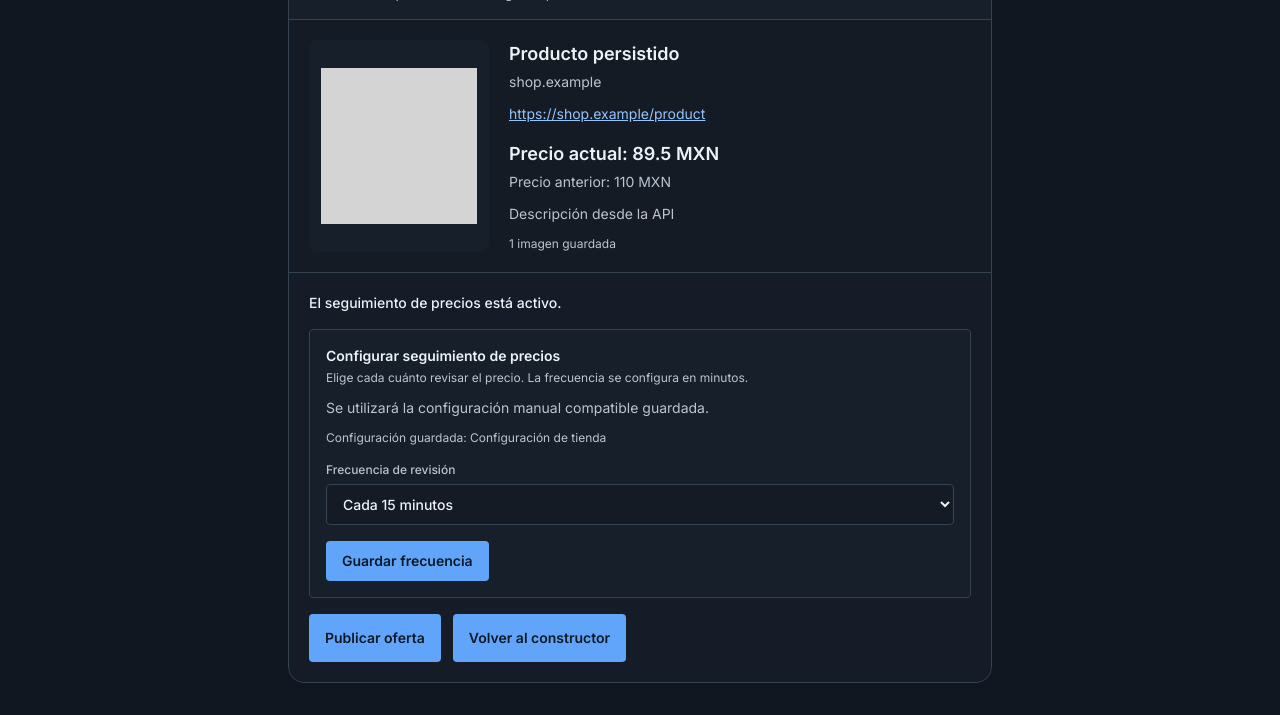
ProductSavedPage › shows publication failures without marking the offer as published
This screenshot has width=1280, height=715.
(page scrolled)
Click the button "Publicar oferta" at (375, 638), box x1=309 y1=614 x2=441 y2=662
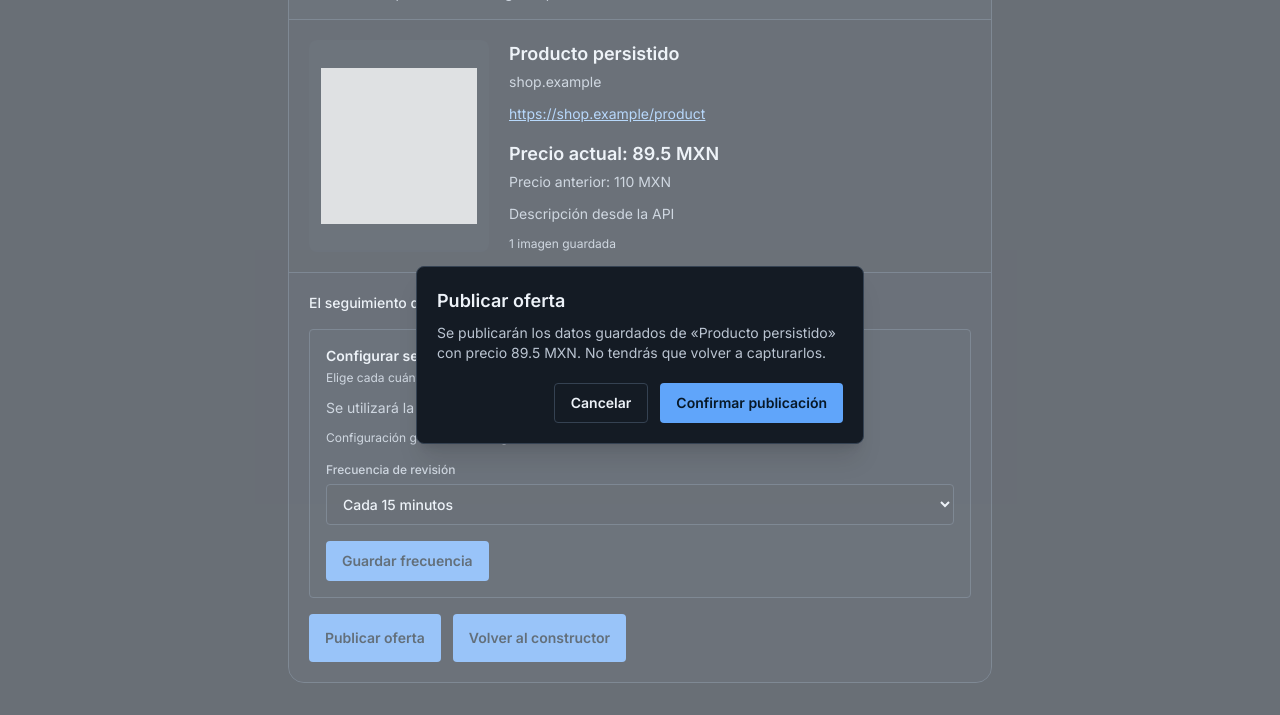
Click the button "Confirmar publicación" at (752, 403), box x1=660 y1=383 x2=843 y2=423
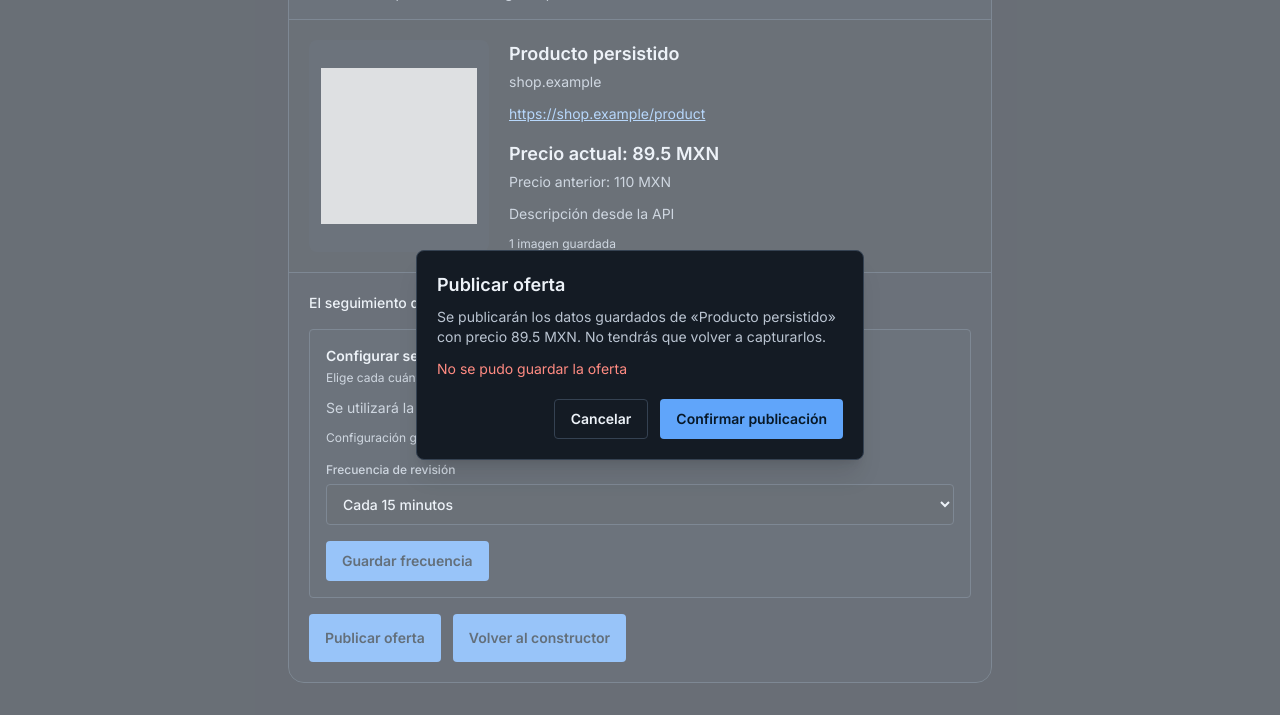
Expected: the text "El seguimiento de precios está activo." is shown, x1=309 y1=294 x2=562 y2=311
Expected: the message "No se pudo guardar la oferta" is shown, x1=437 y1=360 x2=627 y2=377
